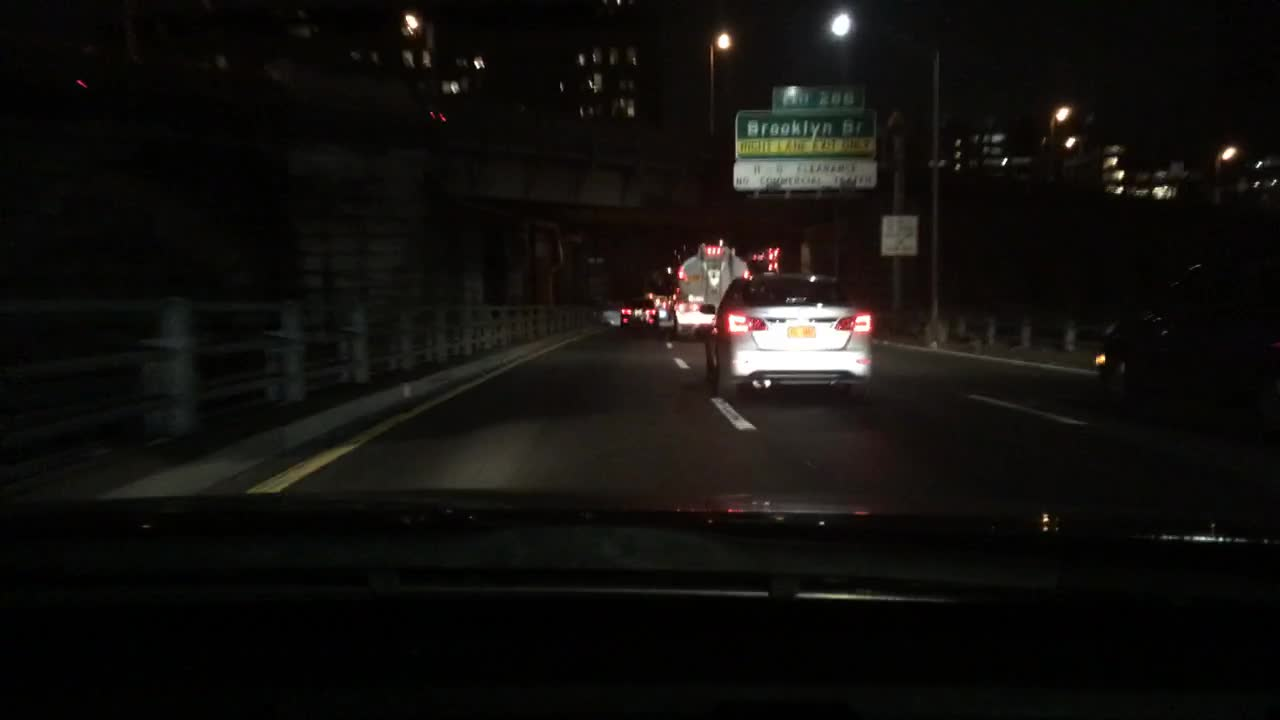car: (1091, 250, 1278, 433), (704, 271, 881, 405), (619, 301, 651, 329), (651, 297, 666, 308), (767, 260, 787, 268), (769, 248, 785, 256), (755, 249, 765, 261)
person: (661, 292, 673, 320)
traffic sign: (732, 109, 880, 191), (770, 82, 864, 109), (884, 217, 918, 252)
truck: (674, 240, 753, 332)
